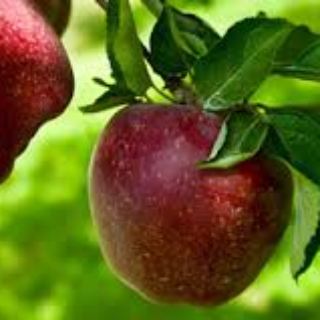tao: (87, 96, 296, 311)
